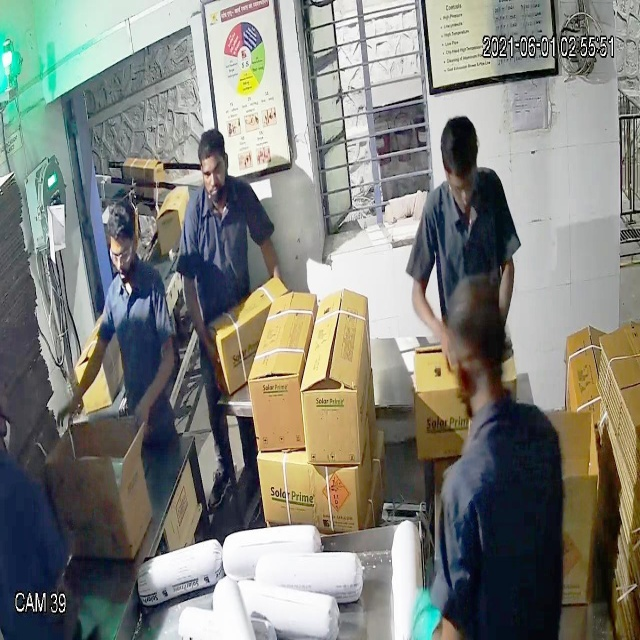Gafas: (107, 236, 138, 270)
